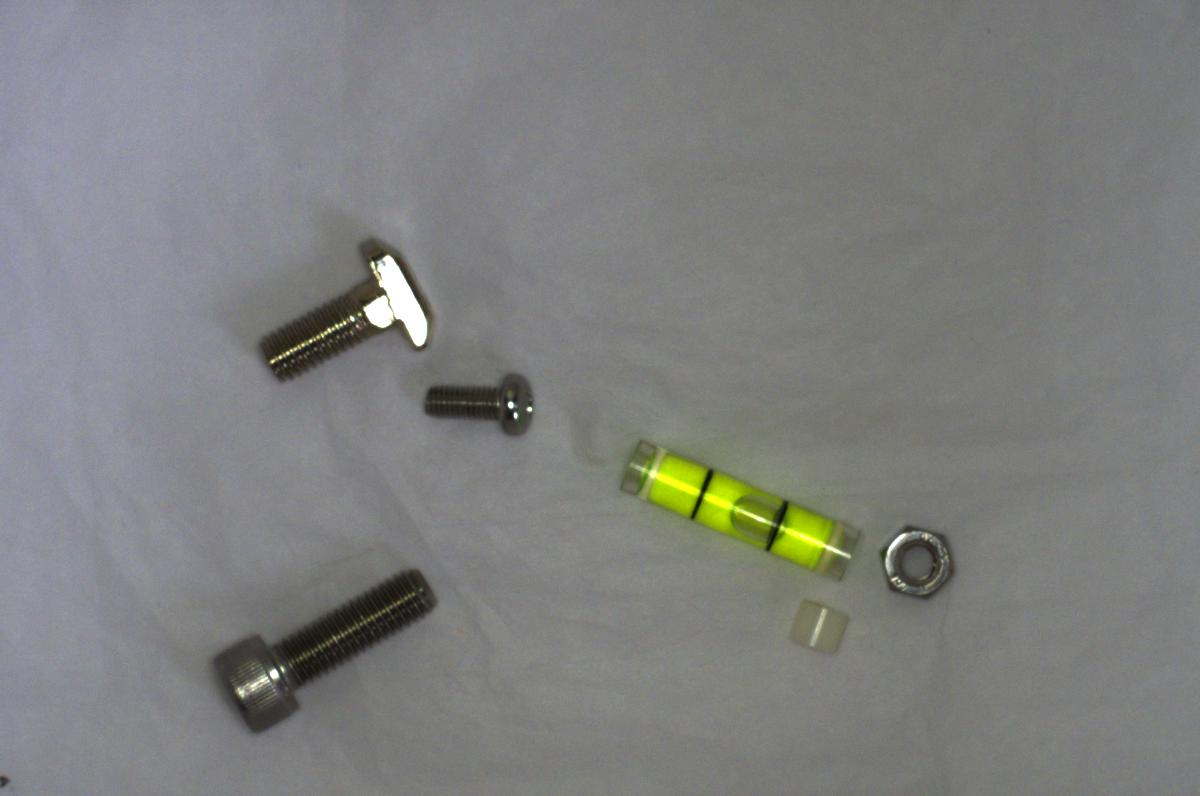Hexagon nut: (873, 521, 962, 599)
Hexagon screw: (194, 563, 445, 738)
Horizontal bubble: (610, 432, 864, 582)
Plastic cushion pillar: (784, 589, 852, 665)
Round head screw: (414, 365, 544, 434)
T-shaped screw: (252, 238, 442, 382)
